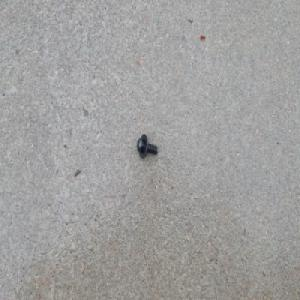BoltWasher: (136, 133, 158, 159)
